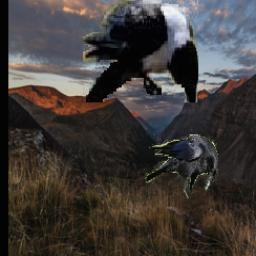Crow: (83, 0, 198, 102), (145, 134, 218, 198)
